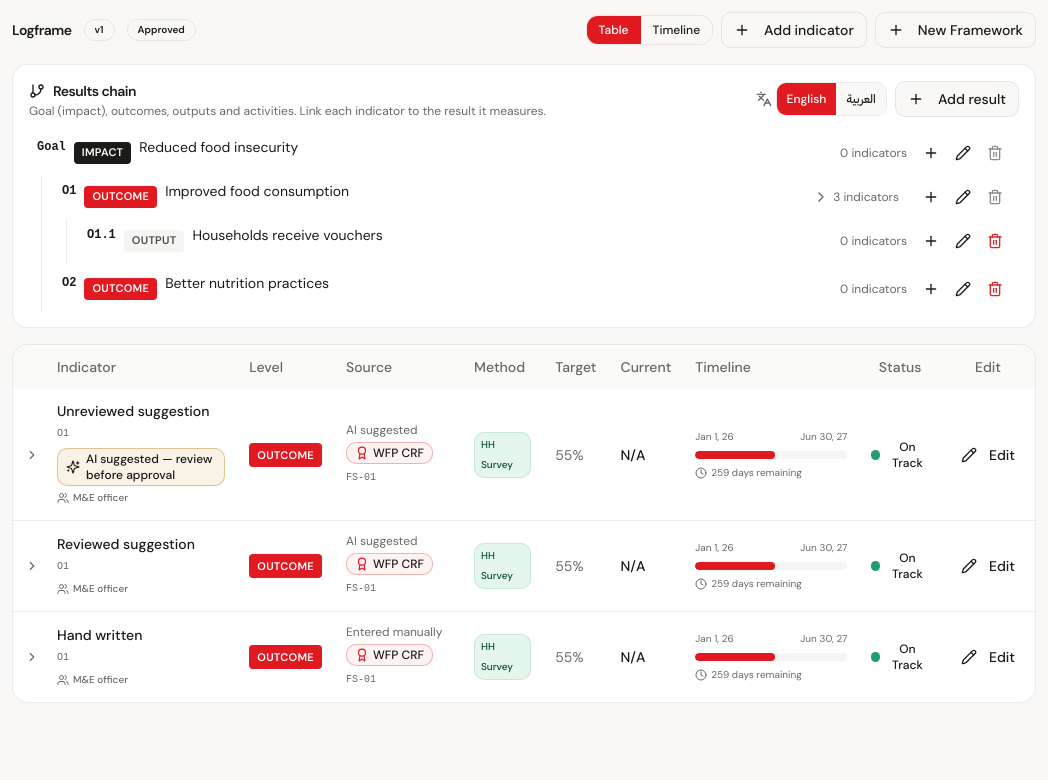
Test: IndicatorTable › labels unapproved AI-made indicators in the Timeline view too (UX-10)
The image size is (1048, 780).
Click the button "Timeline". click: (676, 30)
box: [640,16,712,44]
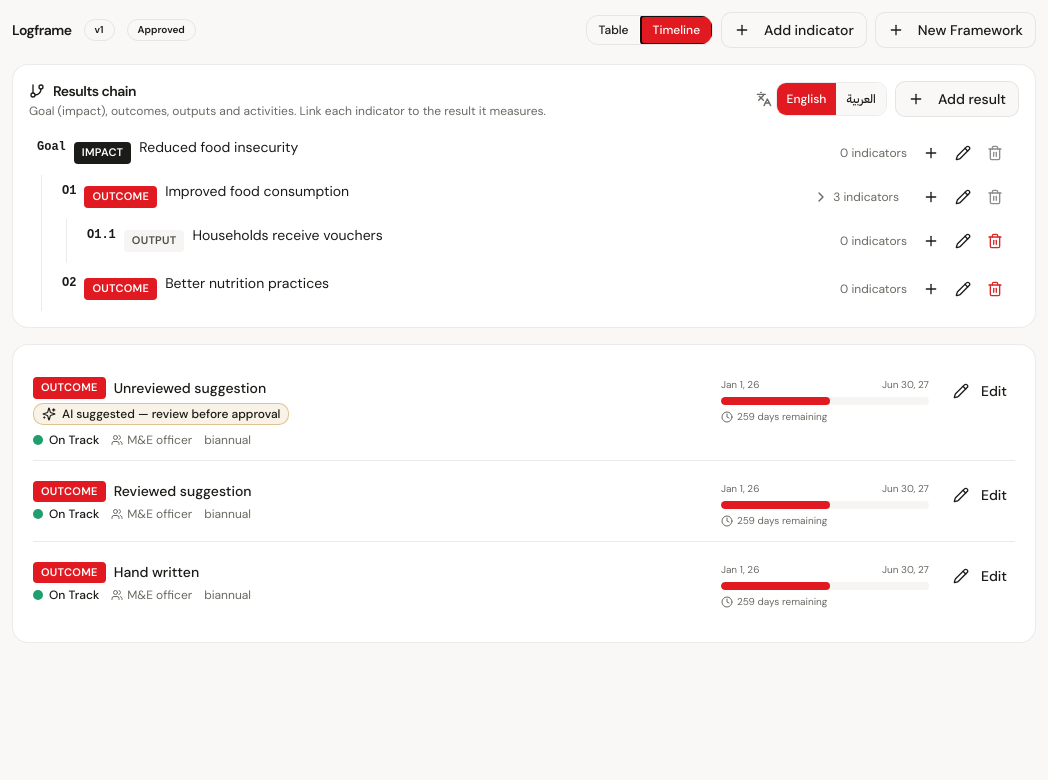
Expected: the text "AI suggested — review before approval" is shown once, [33,403,289,425]
Expected: the column heading "Source" is gone
